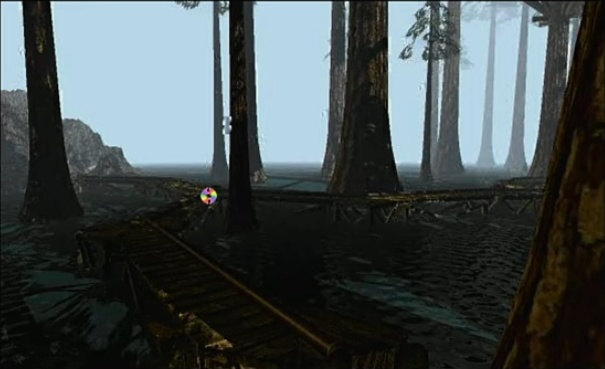Waiting: (197, 184, 221, 207)
